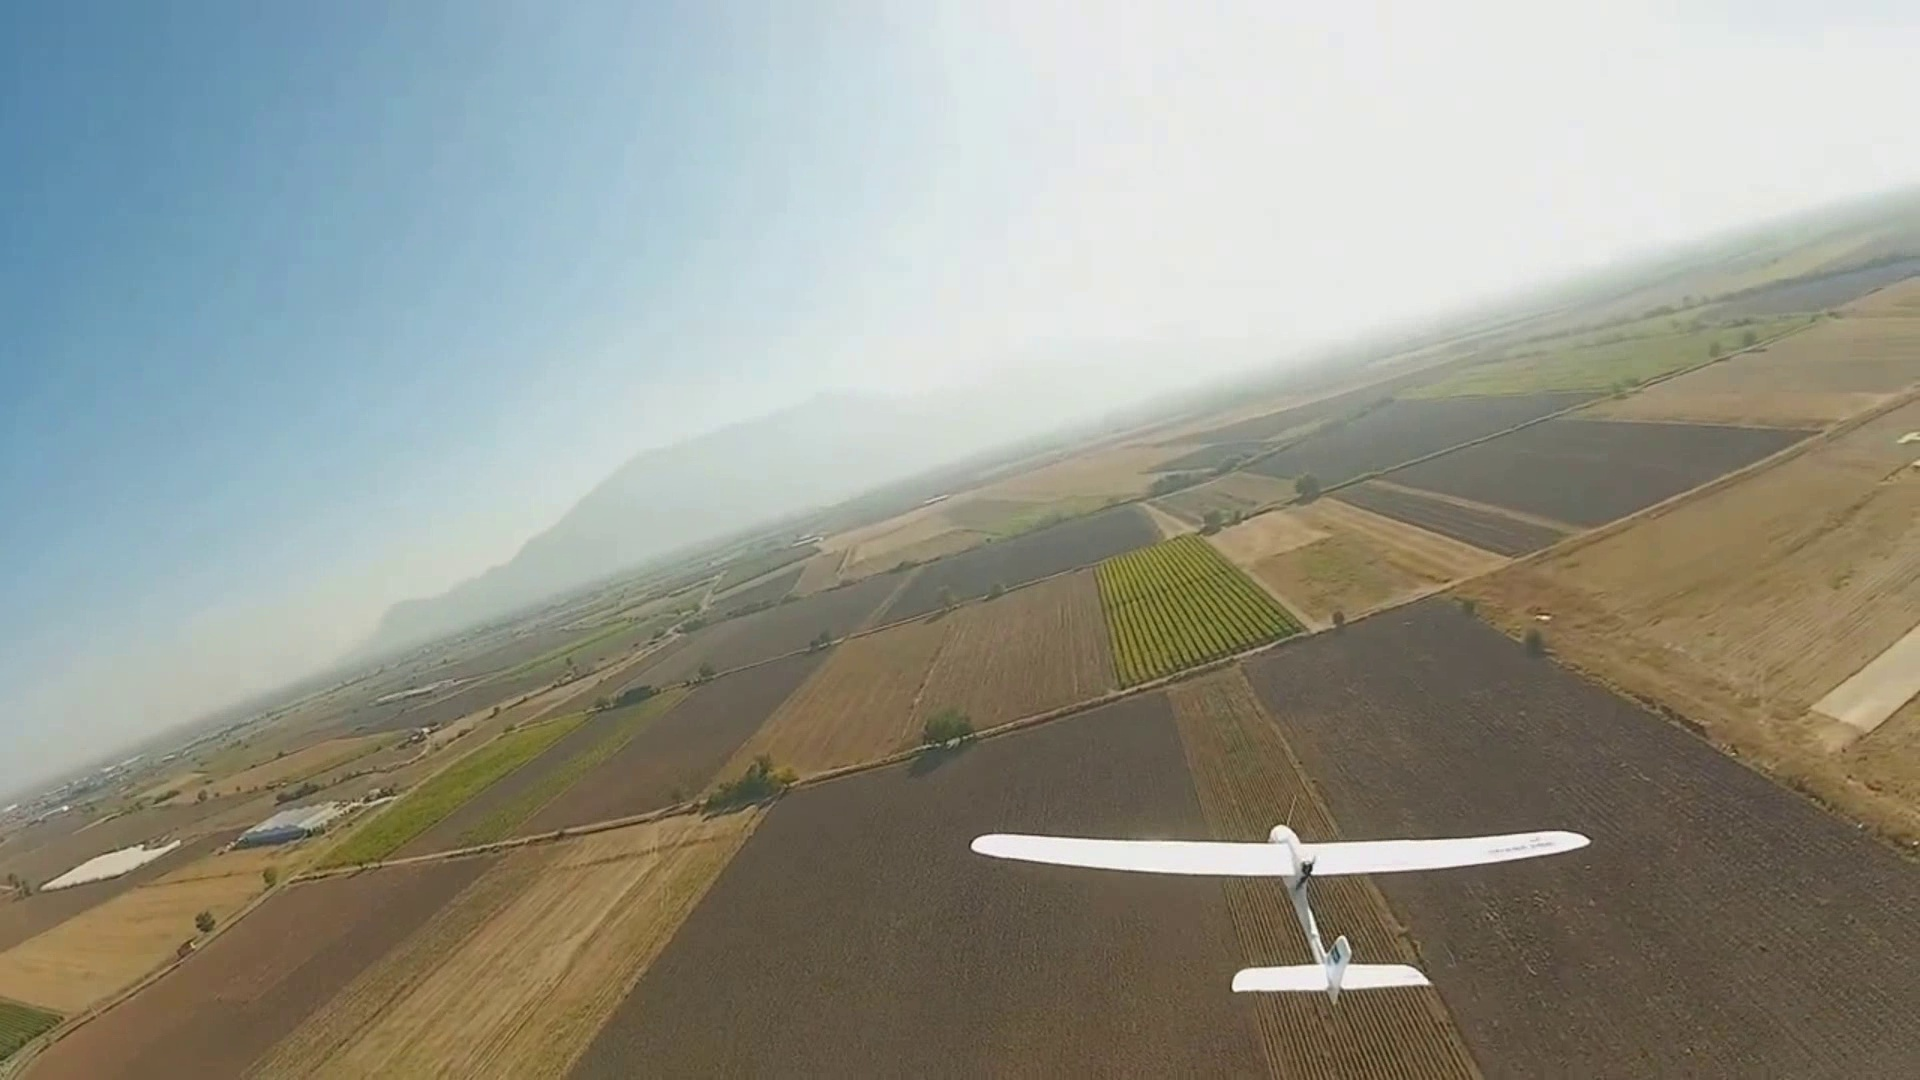airplane: (50, 169, 1919, 1004)
